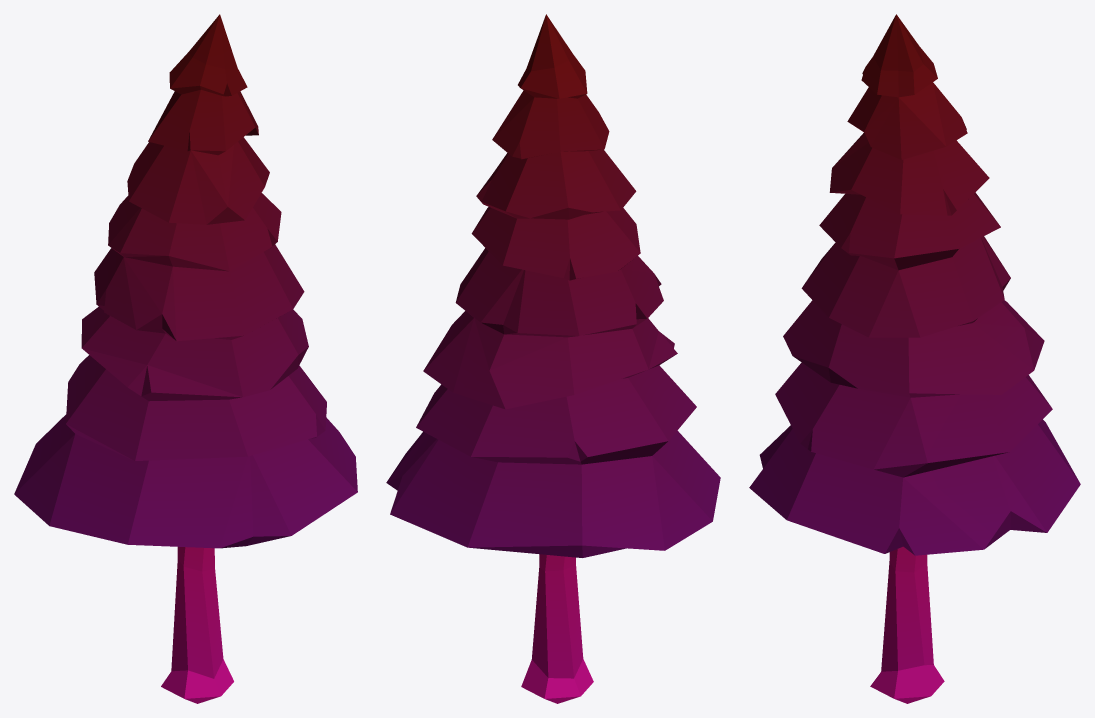
Rendered from trees.glb.
The picture shows the model from 3 angles, left to right: view 1: azimuth 30°, elevation 25°; view 2: azimuth 150°, elevation 25°; view 3: azimuth 270°, elevation 25°; orthographic projection. The views are drawn at different scales.
Parts seen in each view (by area): view 1: SM_Env_Tree_Pine_01; view 2: SM_Env_Tree_Pine_01; view 3: SM_Env_Tree_Pine_01.
Boxes of the visible parts, x1,y1,x2,y2 form: SM_Env_Tree_Pine_01: (14, 14, 357, 703); SM_Env_Tree_Pine_01: (386, 14, 720, 703); SM_Env_Tree_Pine_01: (749, 14, 1080, 703).
Size of the model in its own units: 2.51 by 5.48 by 2.36.
